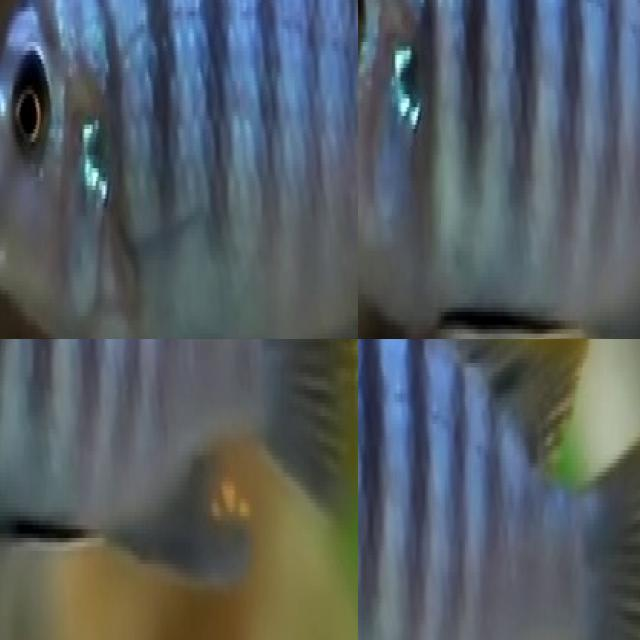fish: (0, 0, 358, 339), (358, 0, 640, 339), (0, 339, 350, 612), (358, 339, 640, 640)
